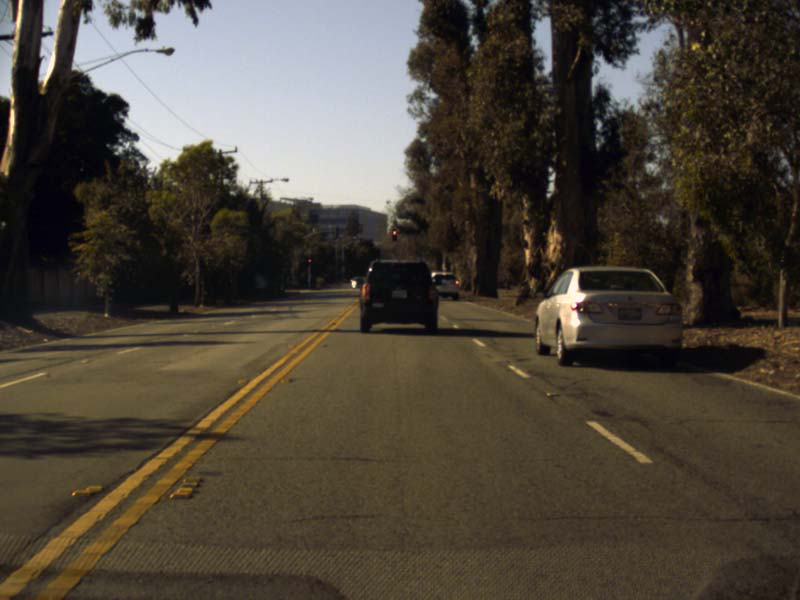Red: (391, 229, 397, 241), (306, 257, 311, 266)
